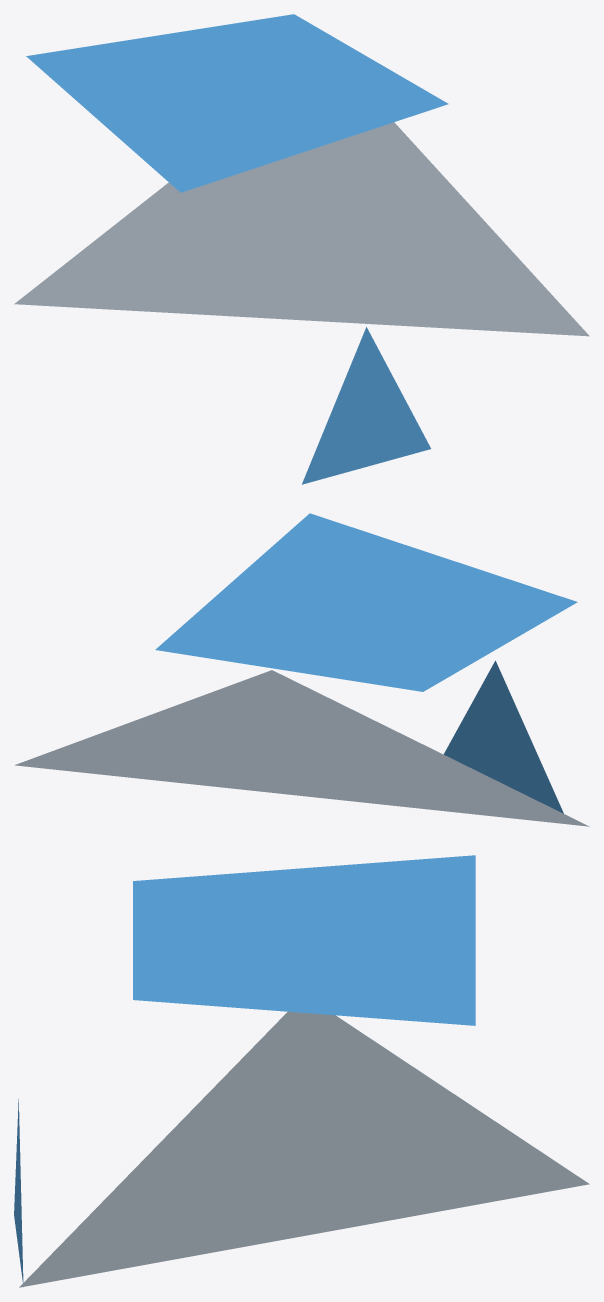
File: AL_GunTurret_LOD2.glb
3 renders of one model, top to bottom at view 1: azimuth 30°, elevation 25°; view 2: azimuth 150°, elevation 25°; view 3: azimuth 270°, elevation 25°, orthographic. The views are drawn at different scales.
Parts seen in each view (by area): view 1: EntranceGate; view 2: EntranceGate; view 3: EntranceGate.
Part boxes in pixels (box(x1,y1,x2,y2)): EntranceGate: box(14, 14, 589, 484); EntranceGate: box(15, 513, 589, 826); EntranceGate: box(14, 855, 589, 1287).
Bounding box in the file's own units: 400 × 250 × 403.
